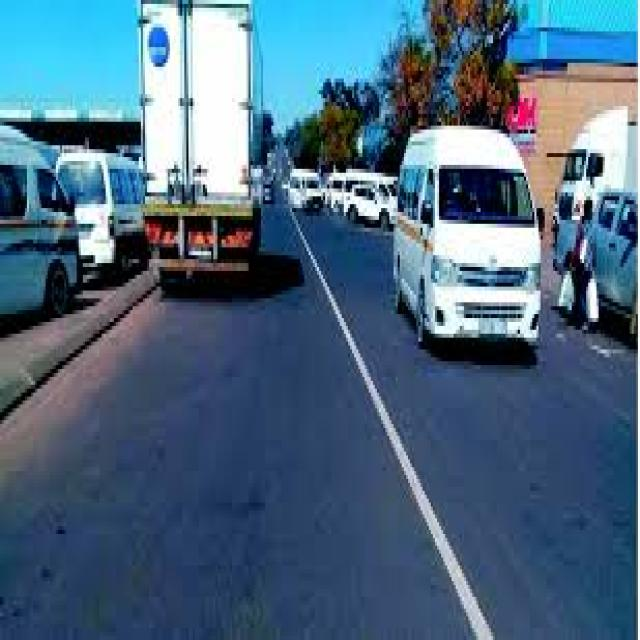Heavy Duty Truck: (137, 4, 269, 310)
MiniBus taxi: (391, 118, 549, 357), (2, 126, 85, 322), (54, 153, 149, 283), (286, 165, 323, 212)
